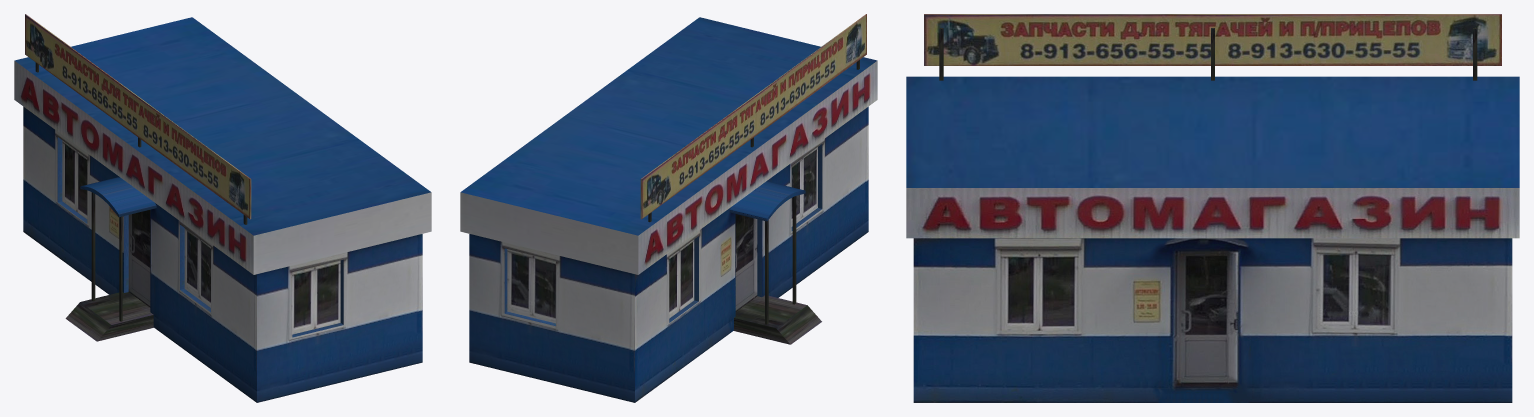
The model's file is r402_omsk_avtomagazin1.FBX.
The picture shows the model from 3 angles, left to right: view 1: azimuth 30°, elevation 25°; view 2: azimuth 150°, elevation 25°; view 3: azimuth 270°, elevation 25°; orthographic projection. The views are drawn at different scales.
Parts seen in each view (by area): view 1: r402_omsk_avtomagazin1; view 2: r402_omsk_avtomagazin1; view 3: r402_omsk_avtomagazin1.
Part boxes in pixels (x1,y1,x2,y2): r402_omsk_avtomagazin1: (14,14,431,402); r402_omsk_avtomagazin1: (460,14,877,402); r402_omsk_avtomagazin1: (906,14,1519,402).
Bounding box in the file's own units: 485 × 879 × 450.
